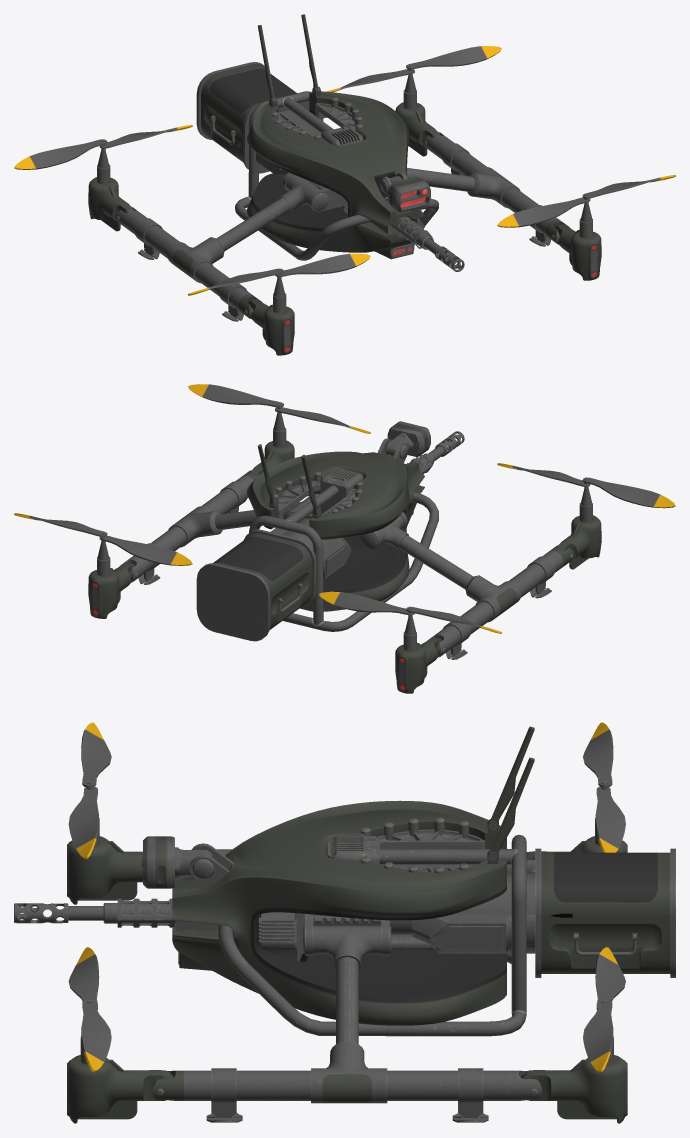
Rendered from Assault_Drone_Concept.glb.
3 views of the same model, one above another, from view 1: azimuth 30°, elevation 25°; view 2: azimuth 150°, elevation 25°; view 3: azimuth 270°, elevation 25° (orthographic). The views are drawn at different scales.
Visible parts, largest first — view 1: Drone_Attack_Drone_M_1_0, Drone_Attack_Drone_M_2_0; view 2: Drone_Attack_Drone_M_1_0, Drone_Attack_Drone_M_2_0; view 3: Drone_Attack_Drone_M_1_0, Drone_Attack_Drone_M_2_0.
Part boxes in pixels (x1,y1,x2,y2): Drone_Attack_Drone_M_1_0: (14,46,675,355); Drone_Attack_Drone_M_2_0: (247,14,433,259); Drone_Attack_Drone_M_1_0: (14,384,675,693); Drone_Attack_Drone_M_2_0: (246,444,433,611); Drone_Attack_Drone_M_1_0: (14,722,675,1123); Drone_Attack_Drone_M_2_0: (103,726,535,1025).
Bounding box in the file's own units: 232 × 82.88 × 186.
2 materials, 2 textured.
